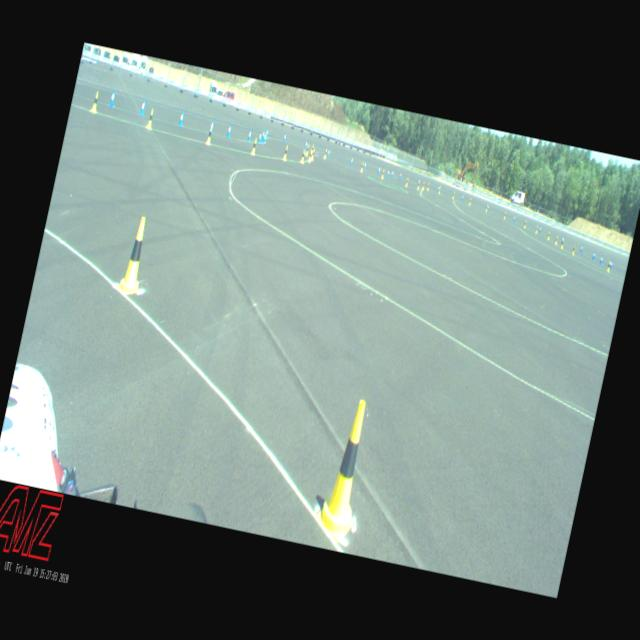blue_cone: (138, 97, 146, 116), (108, 89, 116, 108), (208, 116, 215, 134), (178, 110, 185, 126), (225, 123, 232, 138), (246, 128, 252, 142), (257, 130, 263, 143), (262, 130, 268, 143), (598, 254, 603, 265), (362, 160, 367, 170), (326, 148, 331, 158), (261, 128, 265, 140), (349, 156, 354, 165), (609, 258, 613, 269), (592, 250, 596, 260), (265, 128, 269, 138), (282, 132, 286, 142), (377, 164, 381, 174), (398, 170, 402, 180), (390, 169, 394, 178), (304, 139, 308, 148), (460, 193, 464, 202), (512, 213, 516, 222), (538, 224, 542, 233), (579, 243, 583, 252), (560, 234, 564, 243), (386, 168, 390, 176), (436, 184, 439, 192), (486, 204, 489, 212)
yellow_cone: (313, 395, 379, 541), (118, 215, 154, 296), (90, 90, 100, 113), (205, 126, 214, 146), (146, 108, 154, 128), (250, 138, 258, 156), (282, 144, 290, 160), (300, 148, 306, 164), (307, 149, 313, 162), (380, 168, 386, 180), (606, 260, 612, 272), (304, 144, 310, 156), (310, 148, 316, 160), (570, 244, 576, 255), (322, 148, 328, 159), (546, 230, 551, 240), (404, 177, 408, 187), (416, 180, 420, 190), (360, 162, 364, 172), (560, 238, 564, 248), (310, 144, 314, 154), (502, 211, 506, 220), (426, 182, 430, 191), (554, 236, 558, 244), (534, 225, 538, 233), (522, 220, 526, 228), (420, 182, 424, 190), (451, 191, 455, 199), (437, 186, 441, 194), (468, 198, 472, 205), (485, 204, 488, 212)
